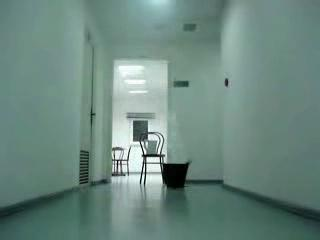smoke: (131, 97, 208, 176)
